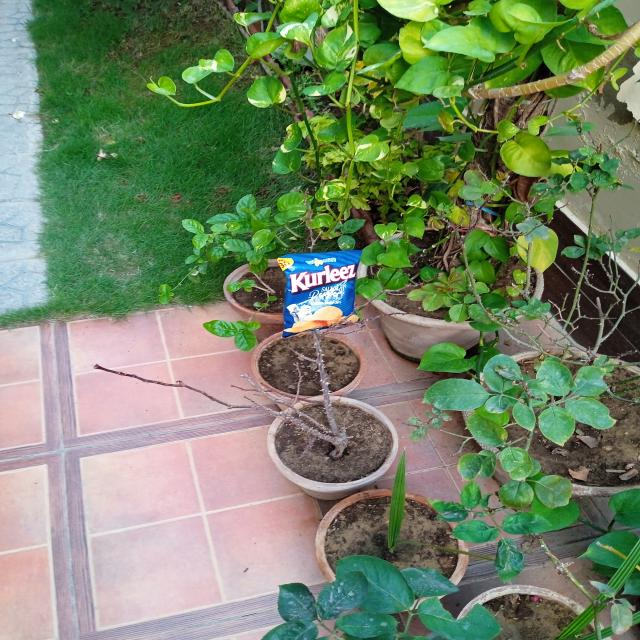Plastic: (276, 251, 366, 329)
